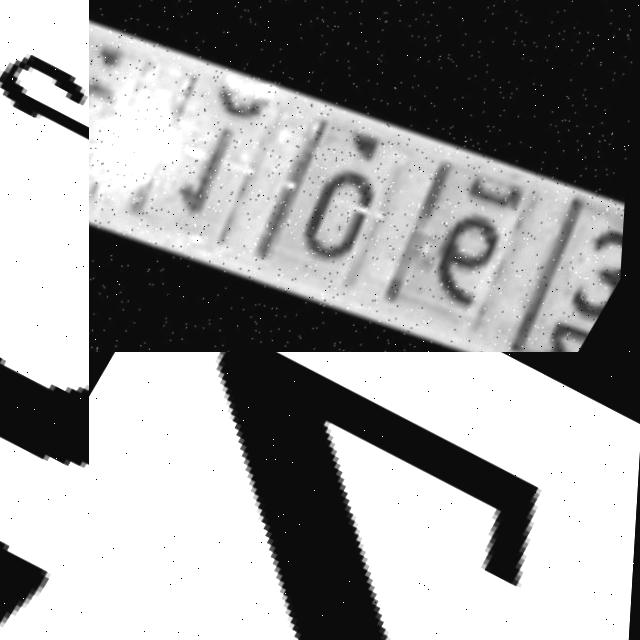0: (271, 141, 407, 283), (89, 50, 145, 191)
1: (145, 105, 269, 239)
3: (541, 205, 629, 334)
6: (0, 352, 89, 640), (397, 191, 527, 329)
M: (13, 0, 89, 234)
Z: (89, 352, 640, 640)
